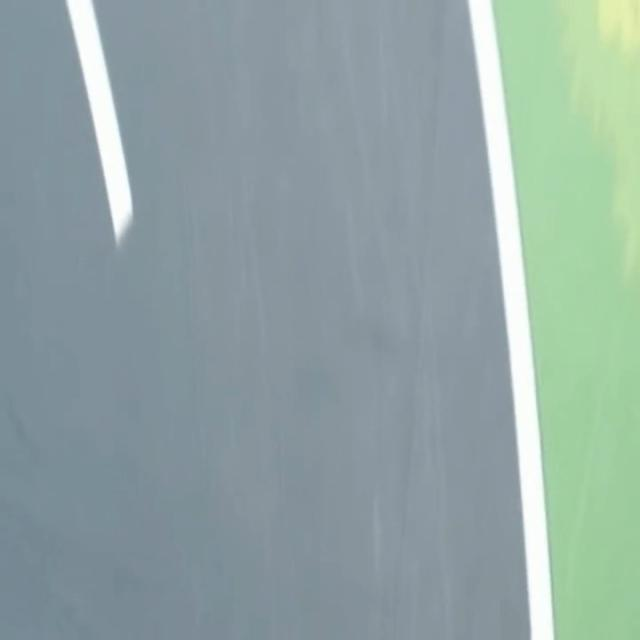center: (66, 0, 132, 244)
right: (468, 0, 554, 639)
